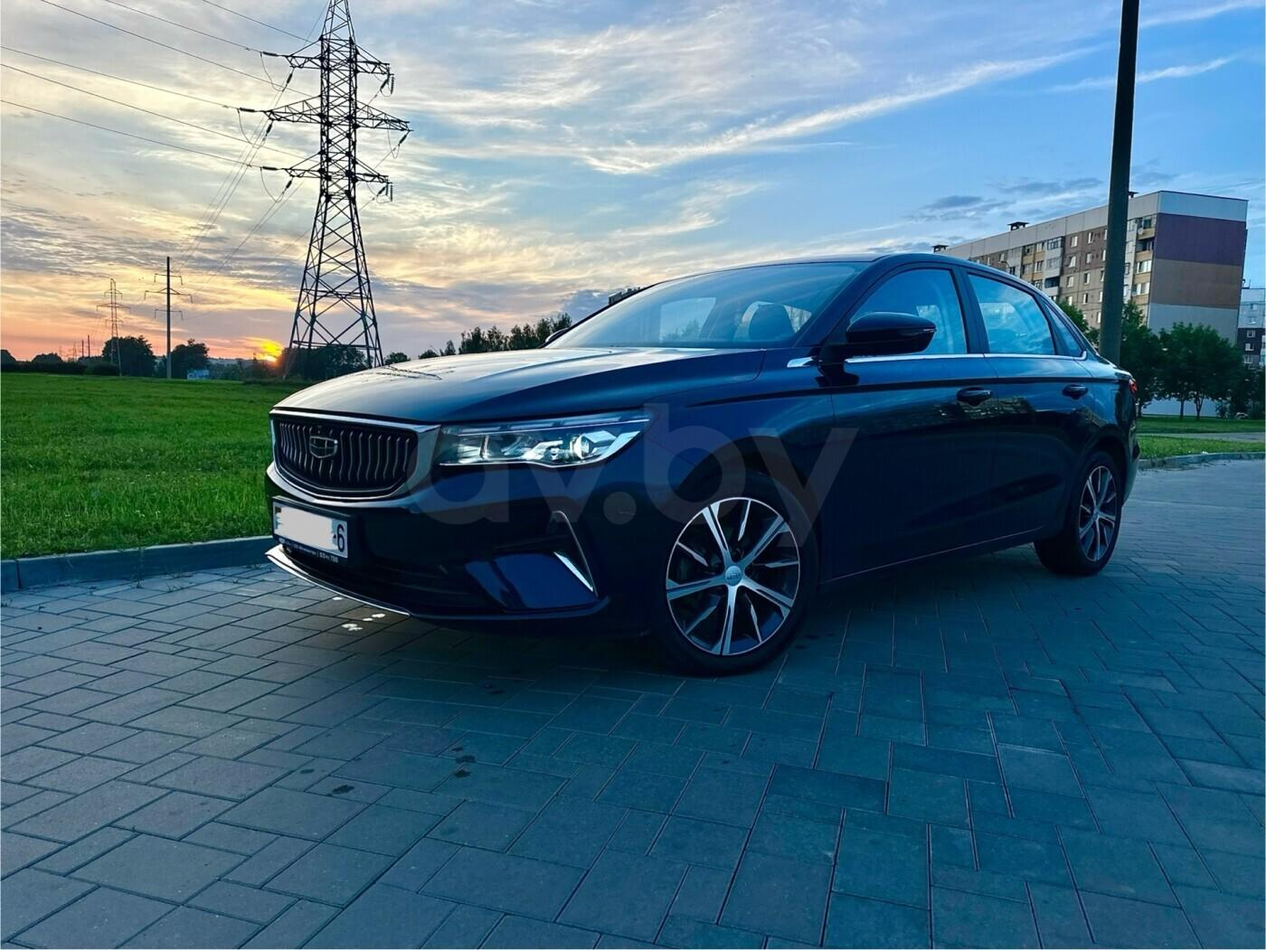Emgrand_2021: (256, 248, 1141, 678)
